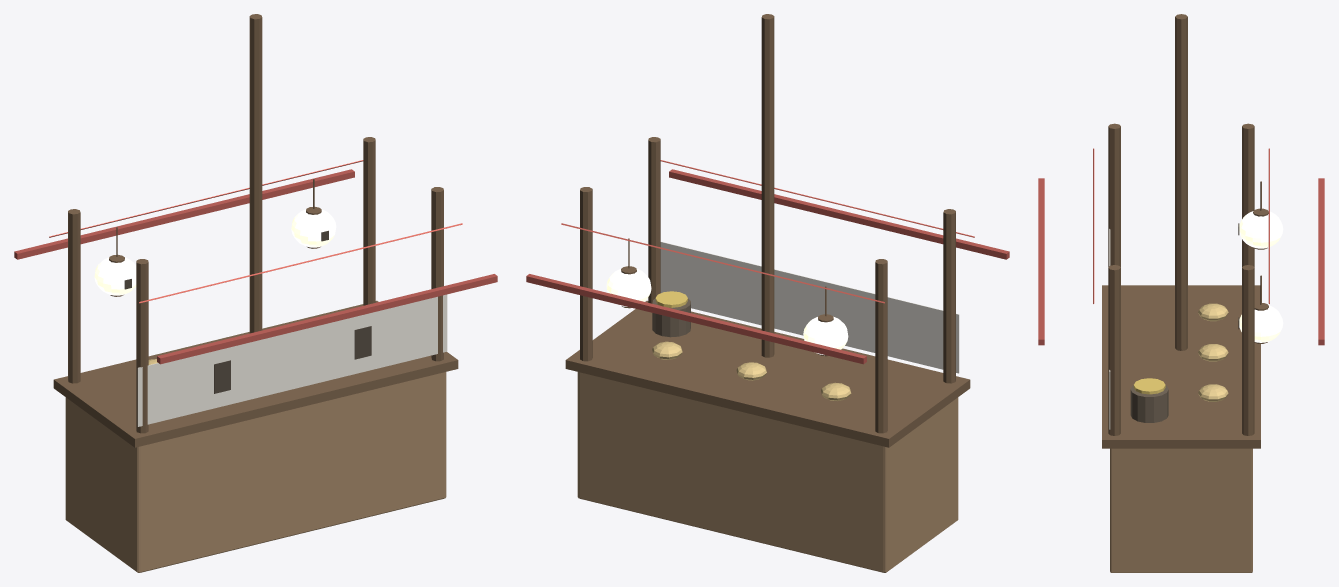
The model's file is food_stall.glb.
3 renders of one model, left to right at view 1: azimuth 30°, elevation 25°; view 2: azimuth 150°, elevation 25°; view 3: azimuth 270°, elevation 25°, orthographic. The views are drawn at different scales.
Parts seen in each view (by area): view 1: food_stall; view 2: food_stall; view 3: food_stall.
Boxes of the visible parts, x1,y1,x2,y2 form: food_stall: [14, 14, 497, 572]; food_stall: [526, 14, 1009, 572]; food_stall: [1038, 14, 1324, 572].
Bounding box in the file's own units: 2.4 × 3.35 × 1.8.
